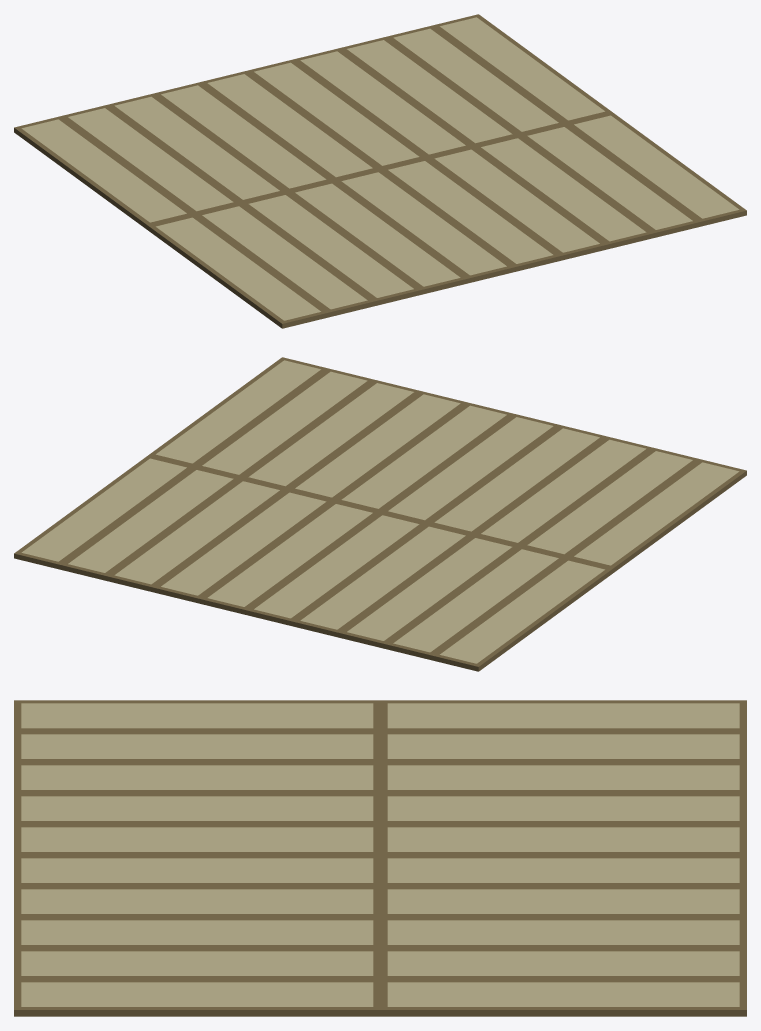
Rendered from Floor_Main_Hall.fbx.
The picture shows the model from 3 angles, top to bottom: view 1: azimuth 30°, elevation 25°; view 2: azimuth 150°, elevation 25°; view 3: azimuth 270°, elevation 25°; orthographic projection. The views are drawn at different scales.
Parts seen in each view (by area): view 1: Cube.005; view 2: Cube.005; view 3: Cube.005.
Part boxes in pixels (<box>): Cube.005: <box>14,14,746,328</box>; Cube.005: <box>14,357,746,671</box>; Cube.005: <box>14,700,746,1016</box>.
Bounding box in the file's own units: 1000 × 10 × 1000.
